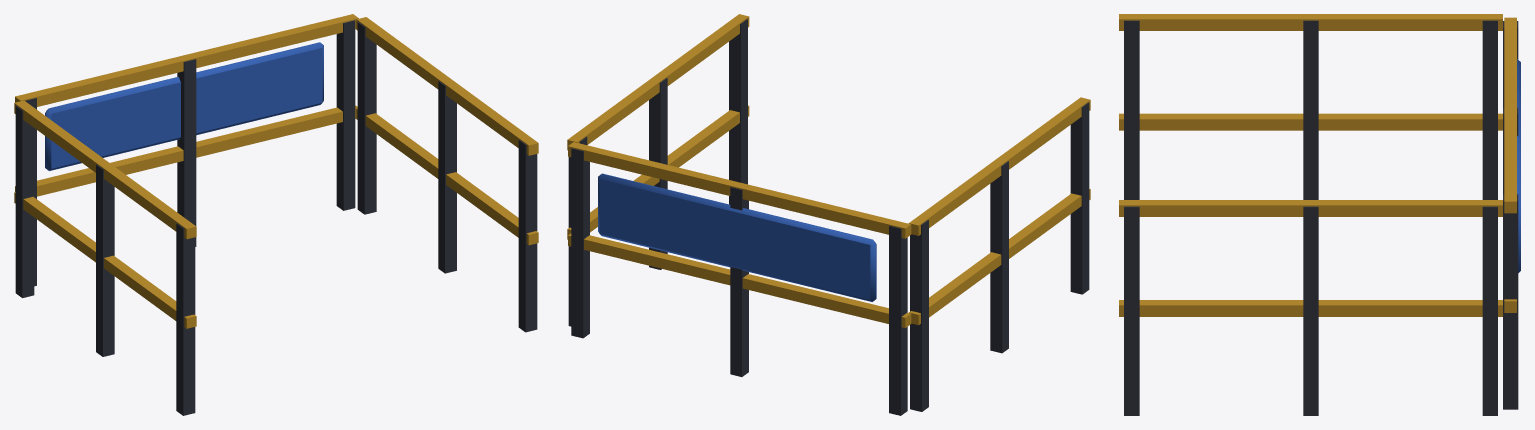
File: v_pickup_rack.glb
The picture shows the model from 3 angles, left to right: view 1: azimuth 30°, elevation 25°; view 2: azimuth 150°, elevation 25°; view 3: azimuth 270°, elevation 25°; orthographic projection. The views are drawn at different scales.
Parts seen in each view (by area): view 1: body; view 2: body; view 3: body.
Boxes of the visible parts, x1,y1,x2,y2 form: body: [14, 14, 538, 415]; body: [567, 14, 1090, 415]; body: [1119, 14, 1520, 415].
Bounding box in the file's own units: 1.78 × 0.905 × 1.57.
